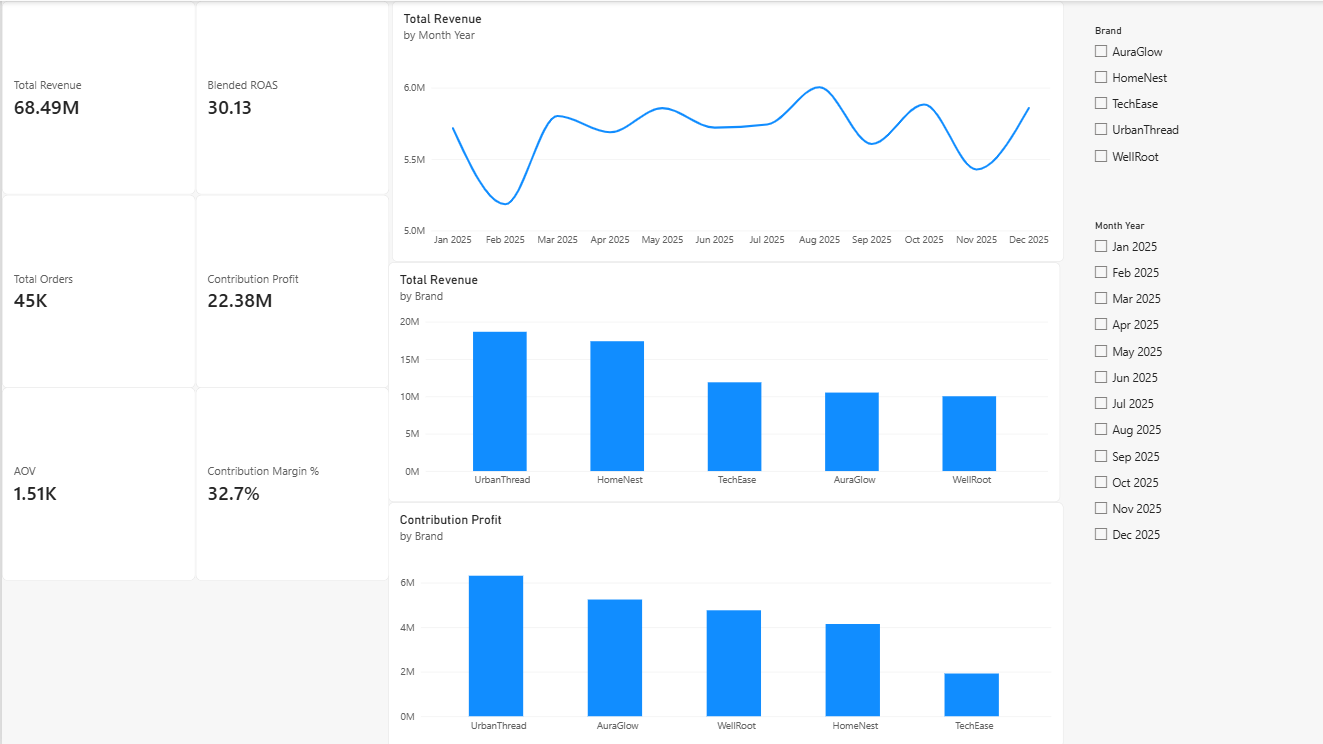

The dashboard page shown, as its layout file describes it:
{"tool":"powerbi","page":{"name":"Executive Overview","canvas":[1920,1080],"ordinal":0},"visuals":[{"type":"cardVisual","fields":{"Data":["orders.Total Revenue"]},"box":[0,0,280,280],"z":0},{"type":"cardVisual","fields":{"Data":["orders.Total Orders"]},"box":[0,280,280,280],"z":1000},{"type":"cardVisual","fields":{"Data":["orders.AOV"]},"box":[0,560,280,280],"z":2000},{"type":"cardVisual","fields":{"Data":["orders.Contribution Profit"]},"box":[280,280,280,280],"z":3000},{"type":"lineChart","fields":{"Category":["DateTable.Month Year"],"Y":["orders.Total Revenue"]},"box":[565,0,972.5,377.5],"z":4000},{"type":"clusteredColumnChart","fields":{"Category":["BrandTable.Brand"],"Y":["orders.Total Revenue"]},"box":[560,377.5,972.5,347.5],"z":5000},{"type":"clusteredColumnChart","fields":{"Category":["BrandTable.Brand"],"Y":["orders.Contribution Profit"]},"box":[560,725,977.5,355],"z":6000},{"type":"cardVisual","fields":{"Data":["marketing.Blended ROAS"]},"box":[280,0,280,280],"z":7000},{"type":"slicer","fields":{"Values":["BrandTable.Brand"]},"box":[1575,35,280,280],"z":8000},{"type":"slicer","fields":{"Values":["DateTable.Month Year"]},"box":[1575,317.5,280,485],"z":9000},{"type":"cardVisual","fields":{"Data":["orders.Contribution Margin %"]},"box":[280,560,280,280],"z":10000}]}

Visuals, with their boxes in screenshot pixels (x1, y1, x2, y2), scaled from the page's 1920x1080 canvas onto the 1323x744 screenshot:
cardVisual - orders.Total Revenue: left=0, top=0, right=193, bottom=193
cardVisual - orders.Total Orders: left=0, top=193, right=193, bottom=386
cardVisual - orders.AOV: left=0, top=386, right=193, bottom=579
cardVisual - orders.Contribution Profit: left=193, top=193, right=386, bottom=386
lineChart - DateTable.Month Year x orders.Total Revenue: left=389, top=0, right=1059, bottom=260
clusteredColumnChart - BrandTable.Brand x orders.Total Revenue: left=386, top=260, right=1056, bottom=499
clusteredColumnChart - BrandTable.Brand x orders.Contribution Profit: left=386, top=499, right=1059, bottom=743
cardVisual - marketing.Blended ROAS: left=193, top=0, right=386, bottom=193
slicer - BrandTable.Brand: left=1085, top=24, right=1278, bottom=217
slicer - DateTable.Month Year: left=1085, top=219, right=1278, bottom=553
cardVisual - orders.Contribution Margin %: left=193, top=386, right=386, bottom=579
